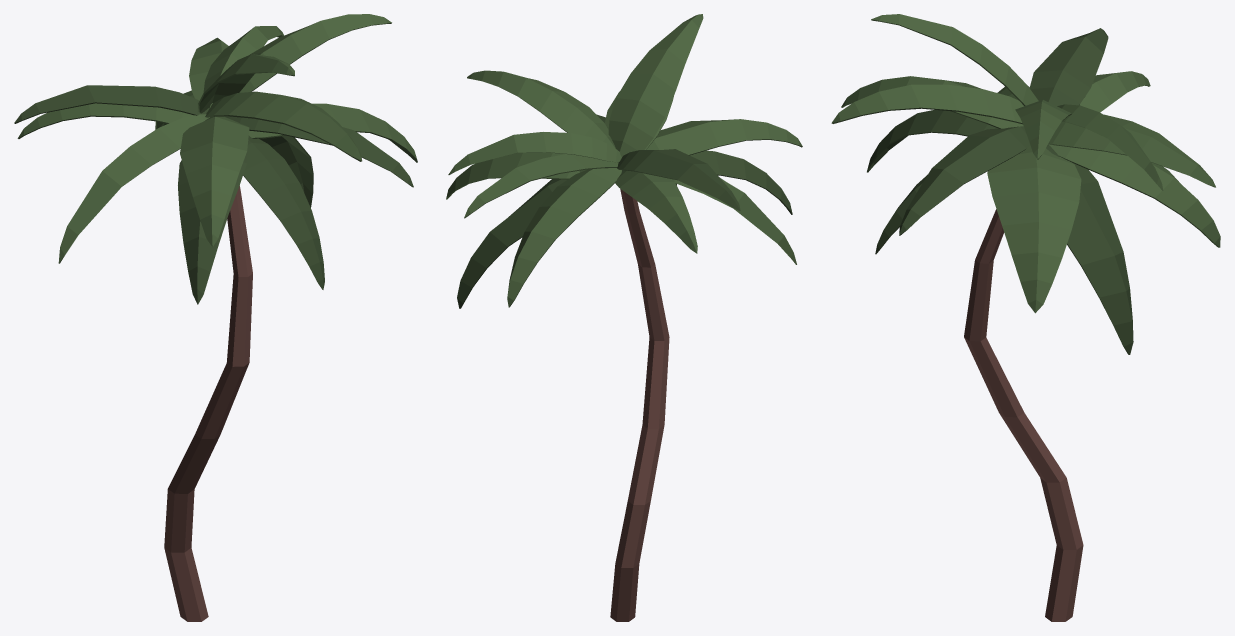
The picture shows the model from 3 angles, left to right: view 1: azimuth 30°, elevation 25°; view 2: azimuth 150°, elevation 25°; view 3: azimuth 270°, elevation 25°; orthographic projection. The views are drawn at different scales.
Parts seen in each view (by area): view 1: PalmTree_1; view 2: PalmTree_1; view 3: PalmTree_1.
Boxes of the visible parts, x1=… form: PalmTree_1: x1=14, y1=14, x2=417, y2=621; PalmTree_1: x1=446, y1=14, x2=802, y2=621; PalmTree_1: x1=831, y1=14, x2=1220, y2=621.
Size of the model in its own units: 2.88 by 4.47 by 2.61.
